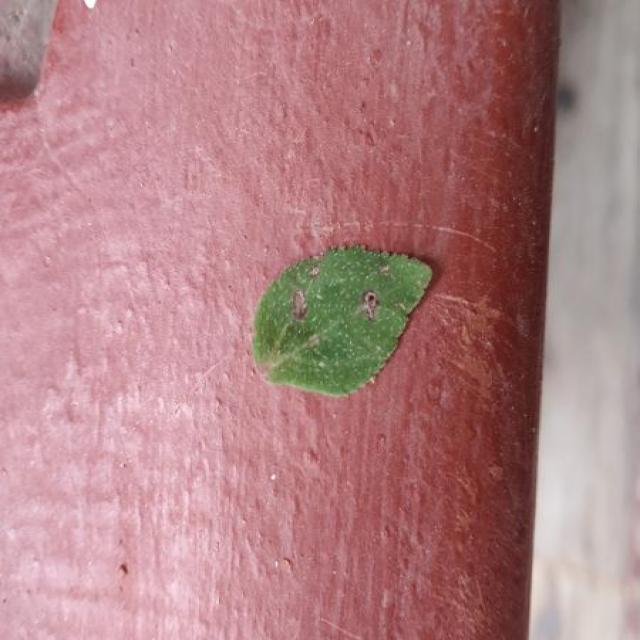Astma_weed: (253, 246, 432, 394)
disease in leaf: (253, 246, 432, 396)
